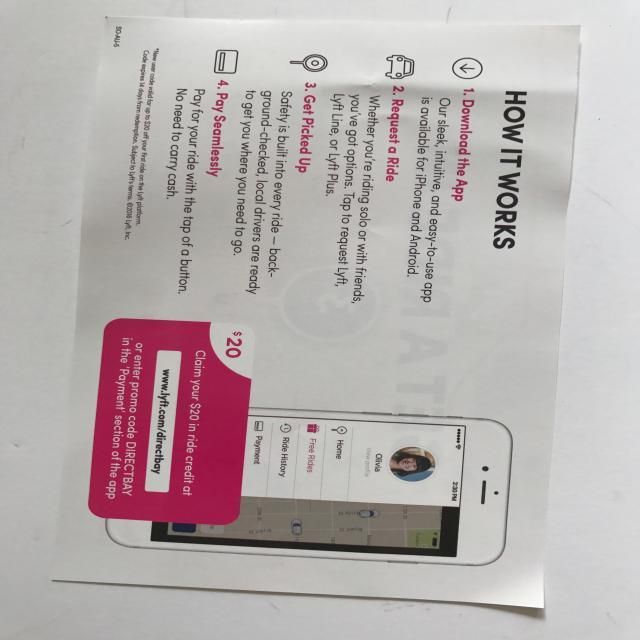paper: (50, 14, 580, 612)
